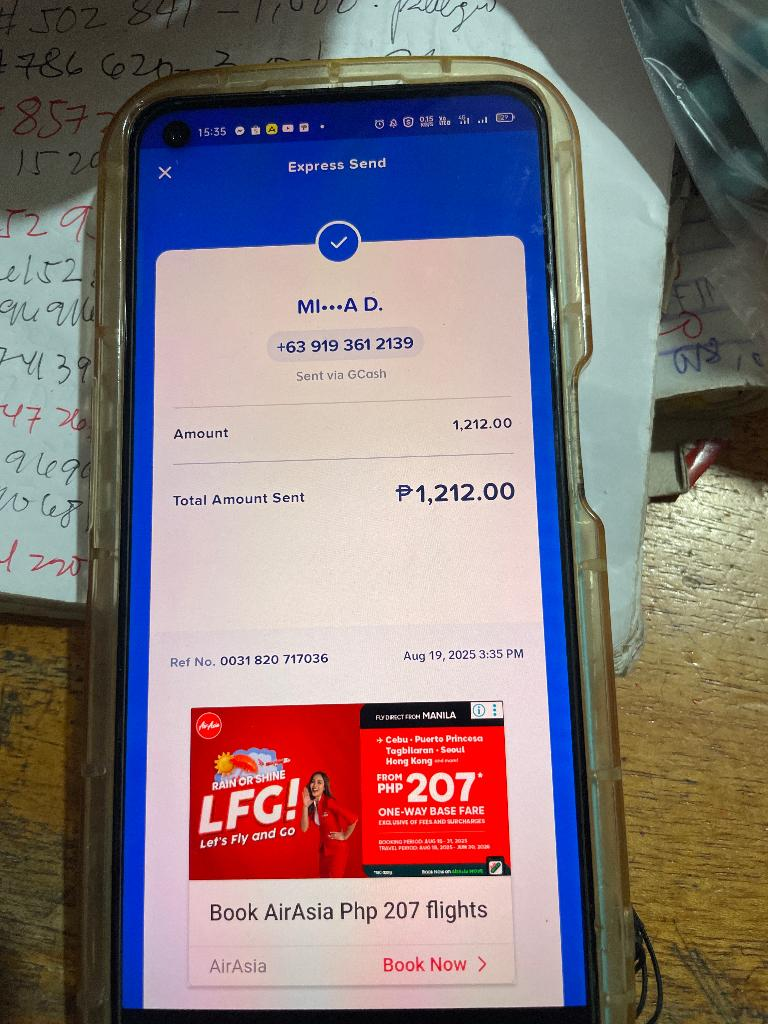Receipt: (123, 134, 586, 1009)
